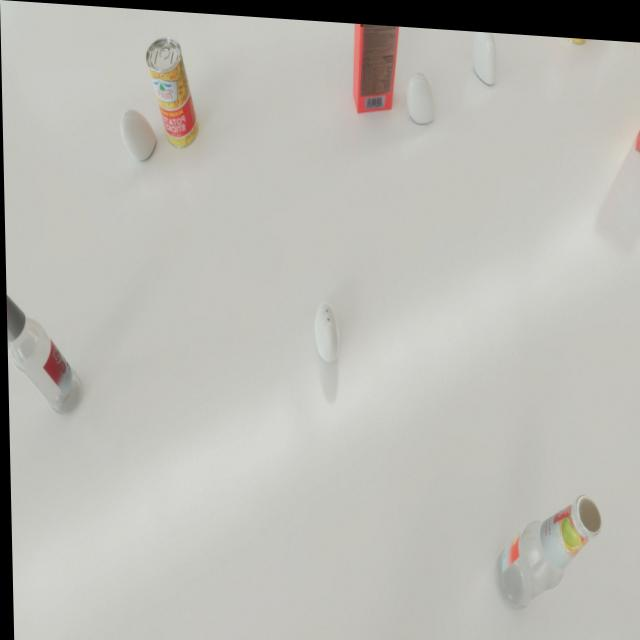Bottle: (491, 482, 601, 609), (5, 265, 81, 416)
HelloPanda: (352, 18, 406, 110)
Potato_sticks: (145, 34, 198, 147)
Salt: (120, 107, 156, 160), (313, 297, 338, 358), (406, 66, 434, 119), (473, 25, 498, 78)
